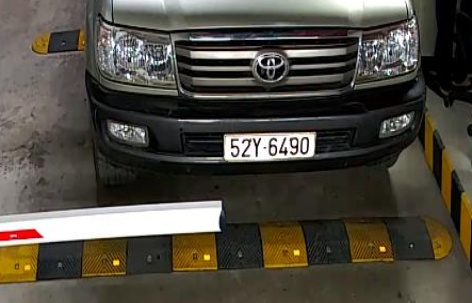plate: (219, 128, 317, 166)
